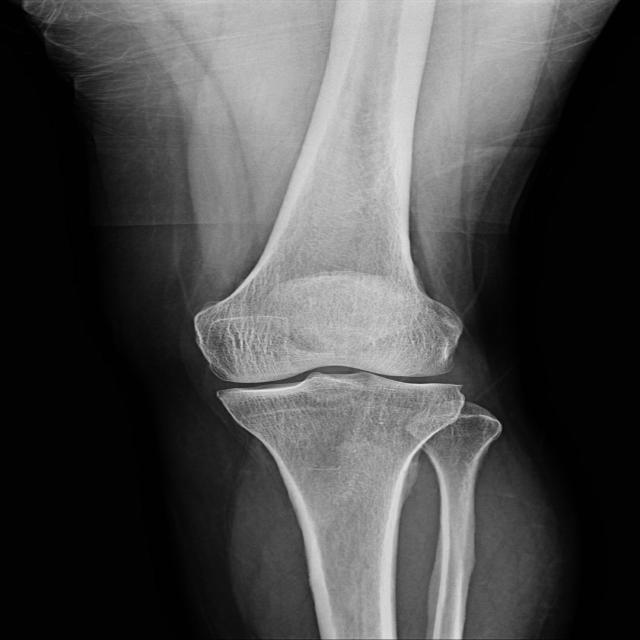osteo: (184, 294, 473, 406)
